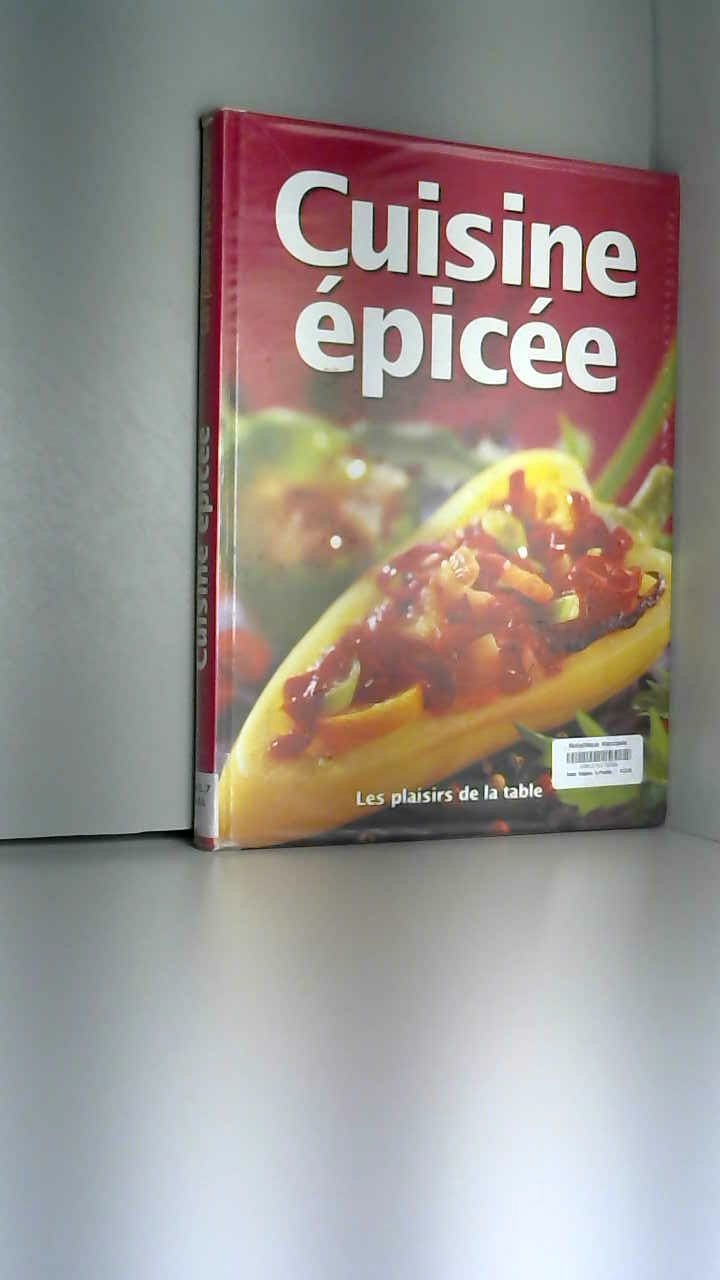book: (160, 80, 717, 877)
